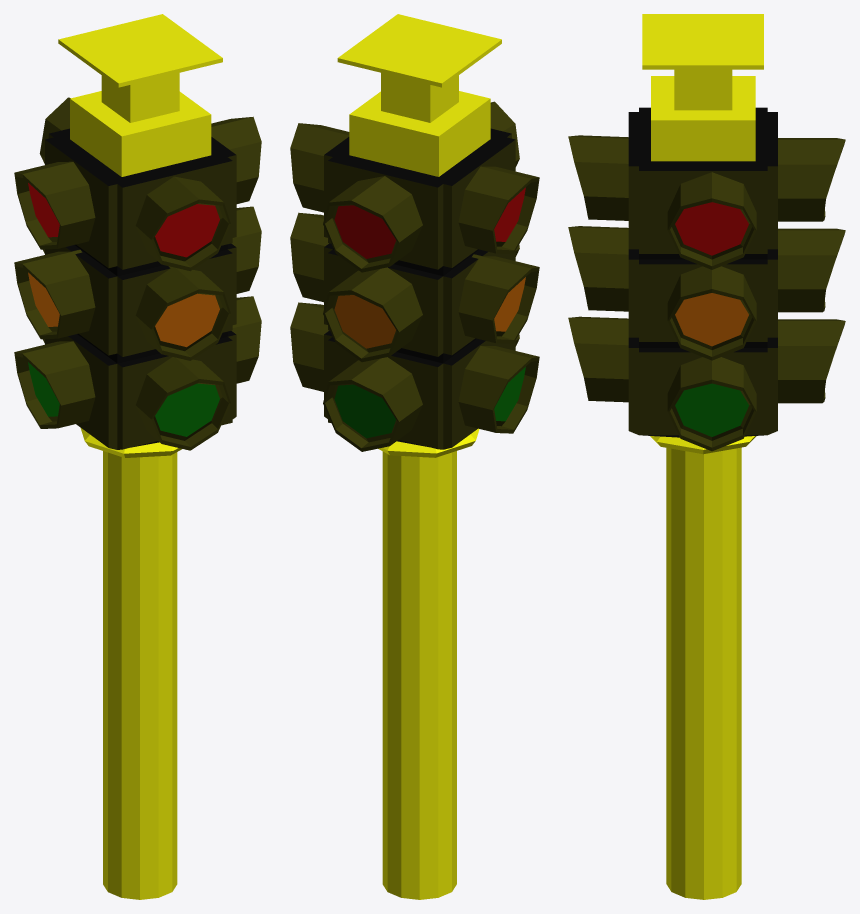
3 views of the same model, side by side, from view 1: azimuth 30°, elevation 25°; view 2: azimuth 150°, elevation 25°; view 3: azimuth 270°, elevation 25° (orthographic).
Parts seen in each view (by area): view 1: Object_45; view 2: Object_45; view 3: Object_45.
Boxes of the visible parts, box(x1,y1,x2,y2) form: Object_45: box(14, 14, 261, 899); Object_45: box(290, 14, 539, 899); Object_45: box(568, 14, 845, 899).
Size of the model in its own units: 0.2072 by 0.7129 by 0.2123.
Materials: 1 (1 with a texture image).
